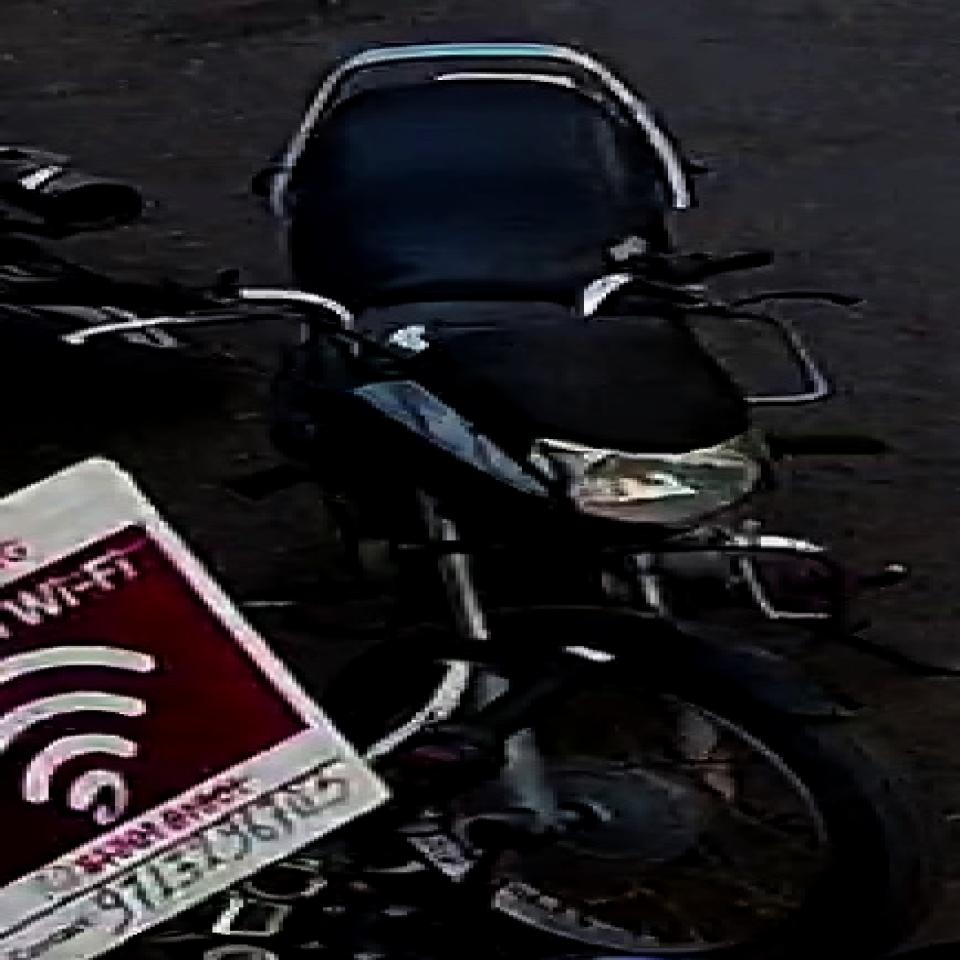head_light: (506, 429, 788, 529)
